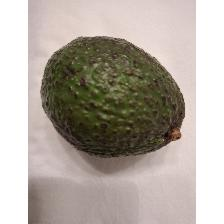Avocado: (37, 31, 189, 161)
